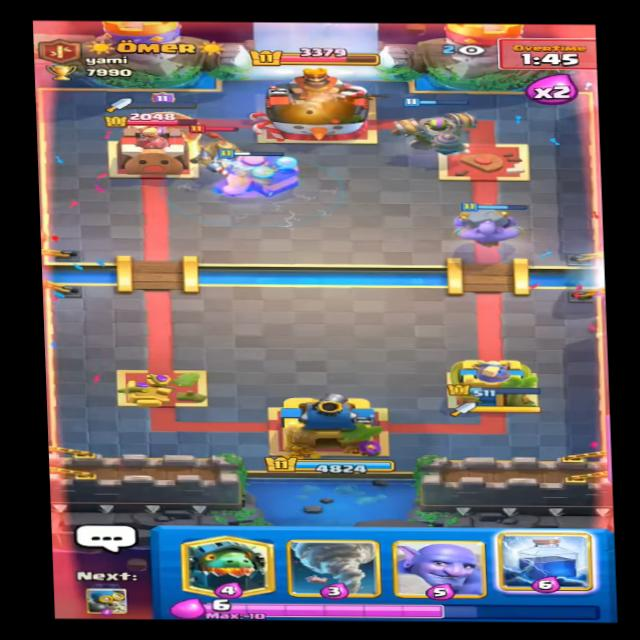Evowizard: (135, 95, 200, 128)
Prince: (189, 129, 250, 179)
